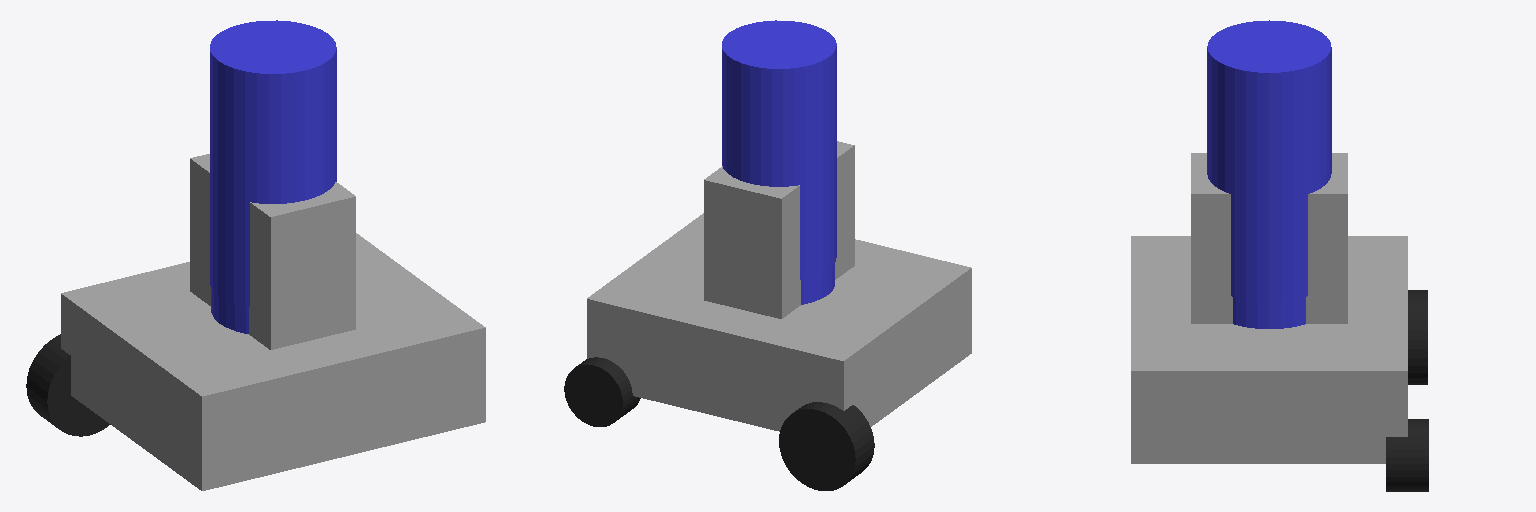
The robot description file, URDF, robot "evolved_robot":
<?xml version="1.0"?>
<robot name="evolved_robot">
  <material name="metal">
    <color rgba="0.7 0.7 0.7 1.0"/>
  </material>
  <material name="plastic">
    <color rgba="0.3 0.3 0.9 1.0"/>
  </material>
  <material name="rubber">
    <color rgba="0.1 0.1 0.1 1.0"/>
  </material>
  <material name="red">
    <color rgba="1.0 0.0 0.0 1.0"/>
  </material>
  <material name="wheel_material">
    <color rgba="0.2 0.2 0.2 1.0"/>
  </material>
  <link name="base_link">
    <visual>
      <geometry><box size="0.30536499040144494 0.2637592270063851 0.0975152016376033"/></geometry>
      <material name="metal"/>
    </visual>
    <collision>
      <geometry><box size="0.30536499040144494 0.2637592270063851 0.0975152016376033"/></geometry>
    </collision>
    <inertial>
      <mass value="5.0"/>
      <inertia ixx="0.0658984536511902" ixy="0" ixz="0" 
               iyy="0.08563082659441416" iyz="0" 
               izz="0.13568058932823365"/>
    </inertial>
  </link>
  <link name="link1">
    <visual>
      <geometry>
        <cylinder radius="0.03486520265155107" length="0.04042928028853386"/>
      </geometry>
      <material name="wheel_material"/>
    </visual>
    <collision>
      <geometry>
        <cylinder radius="0.03486520265155107" length="0.04042928028853386"/>
      </geometry>
    </collision>
    <inertial>
      <mass value="1.0"/>
      <inertia ixx="0.00044010614770416694" ixy="0" ixz="0" 
               iyy="0.00044010614770416694" iyz="0" 
               izz="0.0006077911779668618"/>
    </inertial>
  </link>
  <joint name="joint1" type="continuous">
    <parent link="base_link"/>
    <child link="link1"/>
    <origin xyz="0.13268249520072248 0.13187961350319255 -0.04875760081880165" rpy="1.5708 0 0"/>
    <axis xyz="0 0 1"/>
    <dynamics damping="0.41966141190574124" friction="0.1"/>
  </joint>
  <link name="link2">
    <visual>
      <geometry><cylinder radius="0.05792883747138949" length="0.16266508112525707"/></geometry>
      <material name="plastic"/>
    </visual>
    <collision>
      <geometry><cylinder radius="0.05792883747138949" length="0.16266508112525707"/></geometry>
    </collision>
    <inertial>
      <mass value="0.5"/>
      <inertia ixx="0.0030439316041538703" ixy="0" ixz="0" 
               iyy="0.0030439316041538703" iyz="0" 
               izz="0.0016778751053933294"/>
    </inertial>
  </link>
  <joint name="joint2" type="fixed">
    <parent link="base_link"/>
    <child link="link2"/>
    <origin xyz="0 0 0.04875760081880165" rpy="0 0 0"/>
    <axis xyz="0.07297607362543809 -0.5236043186173205 -0.8488303777572445"/>
    <dynamics damping="0.2891134390323462" friction="0.1"/>
  </joint>
  <link name="link3">
    <visual>
      <geometry>
        <cylinder radius="0.045686839615627195" length="0.03907104858418741"/>
      </geometry>
      <material name="wheel_material"/>
    </visual>
    <collision>
      <geometry>
        <cylinder radius="0.045686839615627195" length="0.03907104858418741"/>
      </geometry>
    </collision>
    <inertial>
      <mass value="1.0"/>
      <inertia ixx="0.0006490340649716716" ixy="0" ixz="0" 
               iyy="0.0006490340649716716" iyz="0" 
               izz="0.0010436436570320212"/>
    </inertial>
  </link>
  <joint name="joint3" type="fixed">
    <parent link="base_link"/>
    <child link="link3"/>
    <origin xyz="-0.13268249520072248 0.13187961350319255 -0.04875760081880165" rpy="1.5708 0 0"/>
    <axis xyz="0 0 1"/>
    <dynamics damping="0.692067010481422" friction="0.1"/>
  </joint>
  <link name="link4">
    <visual>
      <geometry><box size="0.09246010463648308 0.15026105879309354 0.17369657943749678"/></geometry>
      <material name="metal"/>
    </visual>
    <collision>
      <geometry><box size="0.09246010463648308 0.15026105879309354 0.17369657943749678"/></geometry>
    </collision>
    <inertial>
      <mass value="0.5"/>
      <inertia ixx="0.004395740624825679" ixy="0" ixz="0" 
               iyy="0.003226614388139669" iyz="0" 
               izz="0.002593938061584243"/>
    </inertial>
  </link>
  <joint name="joint4" type="revolute">
    <parent link="base_link"/>
    <child link="link4"/>
    <origin xyz="0 0 0.09875760081880165" rpy="0 0 0"/>
    <axis xyz="0.7886949112418226 0.0 -0.6147847891589817"/>
    <dynamics damping="0.7867909126212331" friction="0.1"/>
    <limit lower="-1.5929920037548284" upper="2.0410000000000004" effort="100" velocity="100"/>
  </joint>
  <link name="link5">
    <visual>
      <geometry><sphere radius="0.04981282979123626"/></geometry>
      <material name="rubber"/>
    </visual>
    <collision>
      <geometry><sphere radius="0.04981282979123626"/></geometry>
    </collision>
    <inertial>
      <mass value="0.5"/>
      <inertia ixx="0.0009925272047242699" ixy="0" ixz="0" 
               iyy="0.0009925272047242699" iyz="0" 
               izz="0.0009925272047242699"/>
    </inertial>
  </link>
  <joint name="joint5" type="prismatic">
    <parent link="base_link"/>
    <child link="link5"/>
    <origin xyz="0 0 0.14875760081880166" rpy="0 0 0"/>
    <axis xyz="-0.7992335607473434 0.0 -0.6010205615244145"/>
    <dynamics damping="0.6921864212040522" friction="0.1"/>
    <limit lower="-0.37870818825010766" upper="0.9599811186487808" effort="100" velocity="100"/>
  </joint>
  <link name="link6">
    <visual>
      <geometry><cylinder radius="0.05929679321498707" length="0.24130320195547167"/></geometry>
      <material name="plastic"/>
    </visual>
    <collision>
      <geometry><cylinder radius="0.05929679321498707" length="0.24130320195547167"/></geometry>
    </collision>
    <inertial>
      <mass value="0.5"/>
      <inertia ixx="0.00573129702755883" ixy="0" ixz="0" 
               iyy="0.00573129702755883" iyz="0" 
               izz="0.0017580548427904683"/>
    </inertial>
  </link>
  <joint name="joint6" type="revolute">
    <parent link="base_link"/>
    <child link="link6"/>
    <origin xyz="0 0 0.19875760081880167" rpy="0 0 0"/>
    <axis xyz="0.7585826307000118 0.1652752159852939 -0.6302670032464528"/>
    <dynamics damping="0.2025334459637101" friction="0.1"/>
    <limit lower="-1.4203628528110093" upper="0.27579334299403435" effort="100" velocity="100"/>
  </joint>
  <link name="link7">
    <visual>
      <geometry><sphere radius="0.05156707607986047"/></geometry>
      <material name="plastic"/>
    </visual>
    <collision>
      <geometry><sphere radius="0.05156707607986047"/></geometry>
    </collision>
    <inertial>
      <mass value="0.5"/>
      <inertia ixx="0.001063665334170447" ixy="0" ixz="0" 
               iyy="0.001063665334170447" iyz="0" 
               izz="0.001063665334170447"/>
    </inertial>
  </link>
  <joint name="joint7" type="fixed">
    <parent link="base_link"/>
    <child link="link7"/>
    <origin xyz="0 0 0.24875760081880166" rpy="0 0 0"/>
    <axis xyz="0.7191401399235109 0.2821288928712869 0.6350123990584869"/>
    <dynamics damping="0.1" friction="0.1"/>
  </joint>
</robot>

--- Facts derived from the render (not from the file) ---
3 views of the same robot in one strip: view 1: azimuth 30°, elevation 25°; view 2: azimuth 150°, elevation 25°; view 3: azimuth 270°, elevation 25° (orthographic).
Robot: evolved_robot — 8 links, 7 joints (2 revolute, 1 continuous, 1 prismatic, 3 fixed); root link base_link; default pose: every joint at zero.
Visible links, largest first — view 1: base_link, link6, link4, link3, link2; view 2: base_link, link6, link4, link3, link1, link2; view 3: base_link, link6, link4, link1, link2, link3.
Link boxes in pixels (<box>): base_link: <box>61,233,485,490</box>; link6: <box>210,20,336,306</box>; link4: <box>190,154,355,349</box>; link3: <box>26,334,110,436</box>; link2: <box>211,288,248,333</box>; base_link: <box>587,213,971,431</box>; link6: <box>722,20,836,279</box>; link4: <box>704,141,854,318</box>; link3: <box>779,402,874,490</box>; link1: <box>564,357,640,426</box>; link2: <box>801,264,834,304</box>; base_link: <box>1131,236,1407,463</box>; link6: <box>1207,20,1331,301</box>; link4: <box>1191,153,1347,323</box>; link1: <box>1386,419,1428,491</box>; link2: <box>1233,297,1305,328</box>; link3: <box>1408,290,1427,384</box>.
Bounding box of the posed robot: 0.3459 × 0.284 × 0.4139 m (x, y, z).
Geometry: primitives only (box / cylinder / sphere), no mesh files.